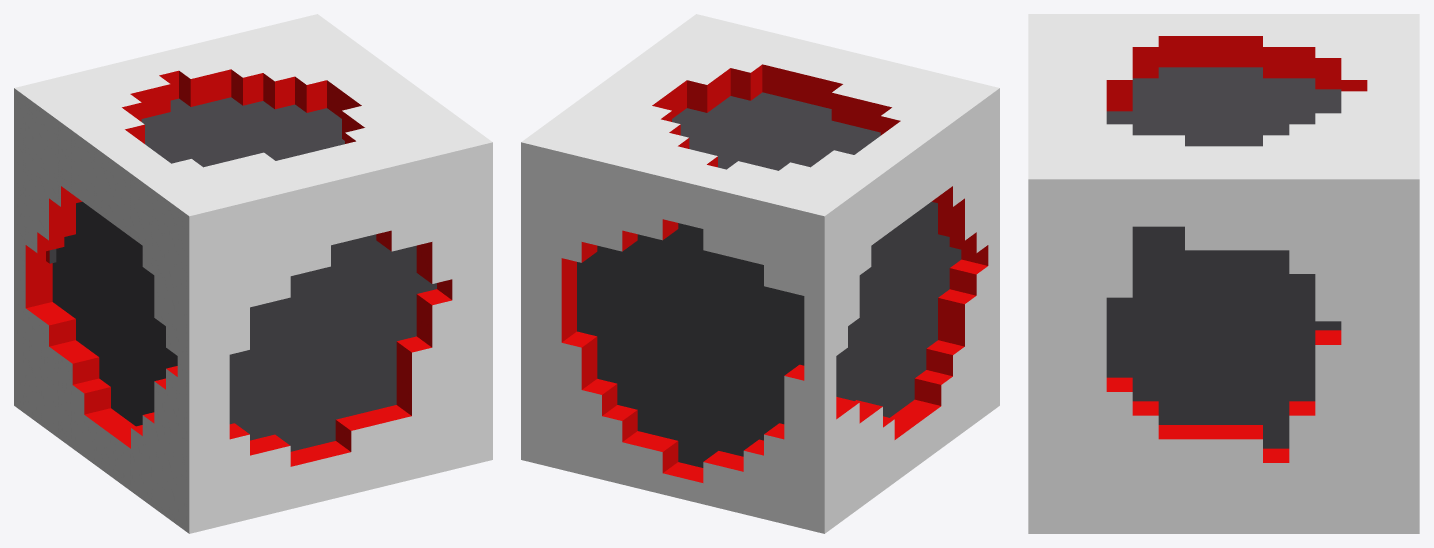
3 views of the same model, side by side, from view 1: azimuth 30°, elevation 25°; view 2: azimuth 150°, elevation 25°; view 3: azimuth 270°, elevation 25° (orthographic). The views are drawn at different scales.
Parts seen in each view (by area): view 1: Объект_Куб; view 2: Объект_Куб; view 3: Объект_Куб.
Boxes of the visible parts, left/top/right/bottom form: Объект_Куб: left=14, top=14, right=492, bottom=533; Объект_Куб: left=521, top=14, right=999, bottom=533; Объект_Куб: left=1028, top=14, right=1419, bottom=533.
Size of the model in its own units: 100 by 100 by 100.
